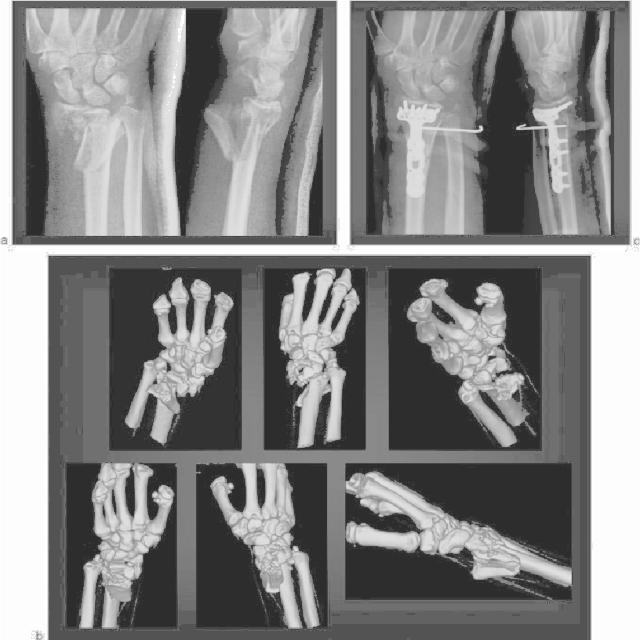Intra-articular fracture: (50, 100, 141, 165), (198, 94, 286, 158)
